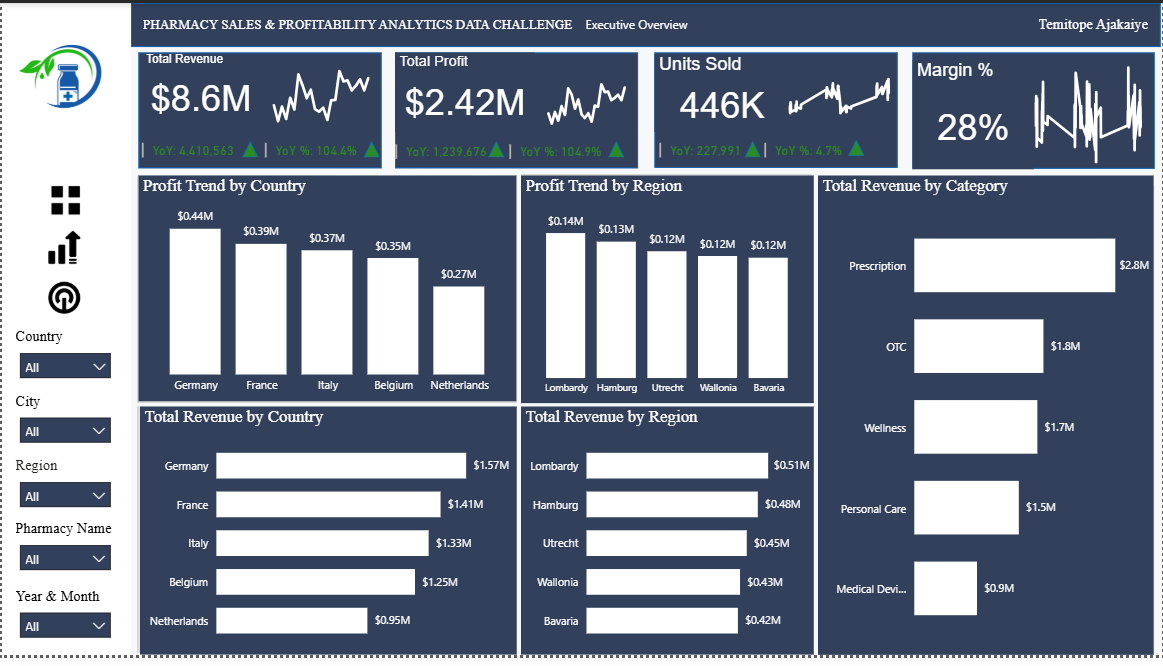

Layout of this report page (visuals, bound fields, positions):
{"tool":"powerbi","page":{"name":"Executive Overview","canvas":[1280,720],"ordinal":0},"visuals":[{"type":"shape","box":[0,0,143,719.8],"z":0},{"type":"shape","box":[143,0,1137,48.6],"z":1000},{"type":"shape","box":[150.5,55.3,268.4,127.9],"z":2000},{"type":"shape","box":[434.4,55.3,268.4,127.9],"z":3000},{"type":"shape","box":[719.8,55.4,268.4,127.4],"z":4000},{"type":"shape","box":[1004.7,55.4,267.5,128.4],"z":5000},{"type":"shape","box":[149.3,190.9,419.5,251.3],"z":6000},{"type":"shape","box":[900.7,201.3,371.6,518.4],"z":7000},{"type":"shape","box":[149.3,446,419.5,272.1],"z":8000},{"type":"textbox","box":[150.8,8.8,514.5,39.9],"z":9000},{"type":"textbox","box":[640,8.8,197.4,39.9],"z":10000},{"type":"card","title":"Total Revenue","fields":{"Values":["FactSales.Total Revenue"]},"box":[154.1,54.7,130.9,87.8],"z":11000},{"type":"card","title":"Margin %","fields":{"Values":["FactSales.Margin %"]},"box":[1005.5,62.9,134.2,120.9],"z":12000},{"type":"card","title":"Units Sold","fields":{"Values":["FactSales.Units Sold"]},"box":[720.6,56.3,149.1,86.1],"z":13000},{"type":"clusteredBarChart","fields":{"Category":["DimPharmacy.Country","DimPharmacy.Region"],"Y":["FactSales.Total Revenue"]},"box":[153.1,446,415.8,274],"z":15000},{"type":"clusteredBarChart","title":"Total Revenue by Category","fields":{"Category":["DimProduct.Category"],"Y":["FactSales.Total Revenue"]},"box":[901.4,190.9,370.4,529.1],"z":16000},{"type":"shape","box":[572.6,189,321.3,253.2],"z":17000},{"type":"clusteredColumnChart","title":"Profit Trend by Region","fields":{"Category":["DimPharmacy.Region"],"Y":["FactSales.Total Profit"]},"box":[572.6,190.9,323.2,251.3],"z":18000},{"type":"image","box":[0,0,142,165.3],"z":19000},{"type":"slicer","title":"City","fields":{"Values":["DimPharmacy.City"]},"box":[10,430.7,119.7,59.8],"z":20000},{"type":"slicer","title":"Country","fields":{"Values":["DimPharmacy.Country"]},"box":[10,360,120,60],"z":21000},{"type":"slicer","title":"Year & Month","fields":{"Values":["DimDate.Year","DimDate.YearMonth"]},"box":[10,646.5,119.7,59.8],"z":22000},{"type":"slicer","title":"Pharmacy Name","fields":{"Values":["DimPharmacy.PharmacyName"]},"box":[10,572.2,119.7,59.8],"z":23000},{"type":"slicer","title":"Region","fields":{"Values":["DimPharmacy.Region"]},"box":[10,502.4,119.7,59.8],"z":24000},{"type":"textbox","box":[1138.9,9.1,141.5,39.9],"z":25000},{"type":"card","title":"Total Profit","fields":{"Values":["FactSales.Total Profit"]},"box":[434,54.7,154.1,87.8],"z":26000},{"type":"image","box":[43.1,190.5,54.7,54.7],"z":27000},{"type":"image","box":[43.1,243.5,49.7,54.7],"z":28000},{"type":"image","box":[41.4,298.2,54.7,54.7],"z":29000},{"type":"lineChart","title":"Revenue","fields":{"Category":["DimDate.YearMonth.Variation.Date Hierarchy.Year","DimDate.YearMonth.Variation.Date Hierarchy.Quarter","DimDate.YearMonth.Variation.Date Hierarchy.Month","DimDate.YearMonth.Variation.Date Hierarchy.Day"],"Y":["FactSales.Total Revenue"]},"box":[284.9,54.7,134.2,87.8],"z":30000},{"type":"multiRowCard","title":"yoy","fields":{"Values":["DimDate.YoY Revenue display"]},"box":[149.1,149.1,117.6,33.1],"z":31000},{"type":"multiRowCard","fields":{"Values":["DimDate.YoY profit display"]},"box":[429,150.7,139.1,33.1],"z":32000},{"type":"multiRowCard","fields":{"Values":["DimDate.YoY Profit % display"]},"box":[554.9,150.7,147.4,33.1],"z":33000},{"type":"lineChart","fields":{"Y":["FactSales.Total Profit"],"Category":["DimDate.YearMonth.Variation.Date Hierarchy.Year","DimDate.YearMonth.Variation.Date Hierarchy.Quarter","DimDate.YearMonth.Variation.Date Hierarchy.Month","DimDate.YearMonth.Variation.Date Hierarchy.Day"]},"box":[588.1,54.7,114.3,87.8],"z":34000},{"type":"multiRowCard","fields":{"Values":["DimDate.YoY Revenue % display"]},"box":[284.9,149.1,134.2,33.1],"z":35000},{"type":"lineChart","fields":{"Y":["FactSales.Units Sold"],"Category":["DimDate 2.Date.Variation.Date Hierarchy.Year","DimDate 2.Date.Variation.Date Hierarchy.Quarter","DimDate 2.Date.Variation.Date Hierarchy.Month","DimDate 2.Date.Variation.Date Hierarchy.Day"]},"box":[854.7,56.3,139.1,86.1],"z":36000},{"type":"lineChart","fields":{"Y":["FactSales.Margin %"],"Category":["DimDate 2.Date.Variation.Date Hierarchy.Year","DimDate 2.Date.Variation.Date Hierarchy.Quarter","DimDate 2.Date.Variation.Date Hierarchy.Month","DimDate 2.Date.Variation.Date Hierarchy.Day"]},"box":[1126.4,56.3,145.8,125.9],"z":37000},{"type":"multiRowCard","fields":{"Values":["DimDate.YoY units sold"]},"box":[720.6,149.1,144.1,33.1],"z":38000},{"type":"multiRowCard","fields":{"Values":["DimDate.YoY units sold % display"]},"box":[836.5,149.1,152.4,33.1],"z":39000},{"type":"shape","box":[265,152.4,18.2,18.2],"z":40000},{"type":"shape","box":[669.2,152.4,18.2,18.2],"z":41000},{"type":"shape","box":[536.7,152.4,18.2,18.2],"z":42000},{"type":"shape","box":[399.2,152.4,18.2,18.2],"z":43000},{"type":"shape","box":[934.3,150.7,18.2,18.2],"z":44000},{"type":"shape","box":[820,152.4,18.2,18.2],"z":45000},{"type":"shape","box":[572.6,447.9,321.3,270.2],"z":45001},{"type":"clusteredColumnChart","title":"Profit Trend by Country","fields":{"Category":["DimPharmacy.Country"],"Y":["FactSales.Total Profit"]},"box":[151.2,190.9,417.6,249.5],"z":45002},{"type":"clusteredBarChart","fields":{"Category":["DimPharmacy.Region"],"Y":["FactSales.Total Revenue"]},"box":[572.6,446,323.2,274],"z":45003}]}

Visuals, with their boxes in screenshot pixels (x1, y1, x2, y2), scaled from the page's 1280x720 canvas onto the 1163x666 screenshot:
shape: locate(0, 0, 130, 665)
shape: locate(130, 0, 1162, 45)
shape: locate(137, 51, 381, 169)
shape: locate(395, 51, 639, 169)
shape: locate(654, 51, 898, 169)
shape: locate(913, 51, 1156, 170)
shape: locate(136, 177, 517, 409)
shape: locate(818, 186, 1156, 665)
shape: locate(136, 413, 517, 664)
textbox: locate(137, 8, 604, 45)
textbox: locate(582, 8, 761, 45)
"Total Revenue" card: locate(140, 51, 259, 132)
"Margin %" card: locate(914, 58, 1036, 170)
"Units Sold" card: locate(655, 52, 790, 132)
clusteredBarChart - DimPharmacy.Country x DimPharmacy.Region: locate(139, 413, 517, 665)
"Total Revenue by Category" clusteredBarChart: locate(819, 177, 1156, 665)
shape: locate(520, 175, 812, 409)
"Profit Trend by Region" clusteredColumnChart: locate(520, 177, 814, 409)
image: locate(0, 0, 129, 153)
"City" slicer: locate(9, 398, 118, 454)
"Country" slicer: locate(9, 333, 118, 388)
"Year & Month" slicer: locate(9, 598, 118, 653)
"Pharmacy Name" slicer: locate(9, 529, 118, 585)
"Region" slicer: locate(9, 465, 118, 520)
textbox: locate(1035, 8, 1162, 45)
"Total Profit" card: locate(394, 51, 534, 132)
image: locate(39, 176, 89, 227)
image: locate(39, 225, 84, 276)
image: locate(38, 276, 87, 326)
"Revenue" lineChart: locate(259, 51, 381, 132)
"yoy" multiRowCard: locate(135, 138, 242, 169)
multiRowCard - DimDate.YoY profit display: locate(390, 139, 516, 170)
multiRowCard - DimDate.YoY Profit % display: locate(504, 139, 638, 170)
lineChart - FactSales.Total Profit x DimDate.YearMonth.Variation.Date Hierarchy.Year: locate(534, 51, 638, 132)
multiRowCard - DimDate.YoY Revenue % display: locate(259, 138, 381, 169)
lineChart - FactSales.Units Sold x DimDate 2.Date.Variation.Date Hierarchy.Year: locate(777, 52, 903, 132)
lineChart - FactSales.Margin % x DimDate 2.Date.Variation.Date Hierarchy.Year: locate(1023, 52, 1156, 169)
multiRowCard - DimDate.YoY units sold: locate(655, 138, 786, 169)
multiRowCard - DimDate.YoY units sold % display: locate(760, 138, 899, 169)
shape: locate(241, 141, 257, 158)
shape: locate(608, 141, 625, 158)
shape: locate(488, 141, 504, 158)
shape: locate(363, 141, 379, 158)
shape: locate(849, 139, 865, 156)
shape: locate(745, 141, 762, 158)
shape: locate(520, 414, 812, 664)
"Profit Trend by Country" clusteredColumnChart: locate(137, 177, 517, 407)
clusteredBarChart - DimPharmacy.Region x FactSales.Total Revenue: locate(520, 413, 814, 665)
